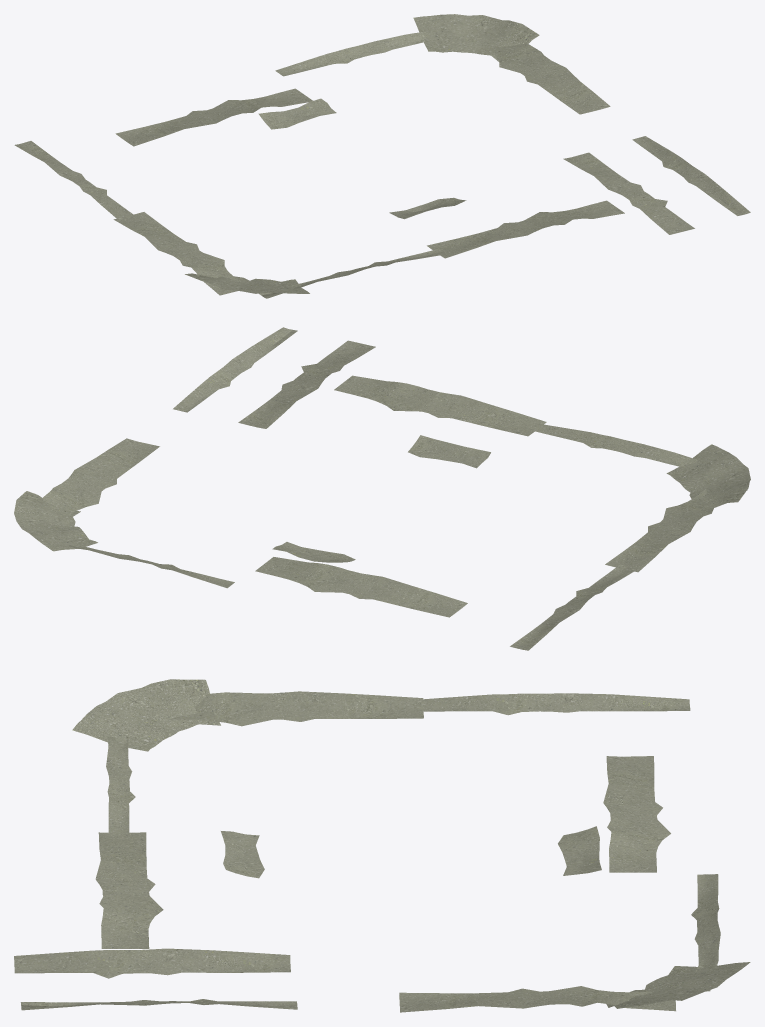
The model's file is SM_TheSamePlace_01_Rubbles_00.fbx.
3 renders of one model, top to bottom at view 1: azimuth 30°, elevation 25°; view 2: azimuth 150°, elevation 25°; view 3: azimuth 270°, elevation 25°, orthographic. The views are drawn at different scales.
Parts seen in each view (by area): view 1: SM_TheSamePlace_01_Rubbles_00; view 2: SM_TheSamePlace_01_Rubbles_00; view 3: SM_TheSamePlace_01_Rubbles_00.
Part boxes in pixels (box(x1,y1,x2,y2)): SM_TheSamePlace_01_Rubbles_00: box(14, 14, 750, 298); SM_TheSamePlace_01_Rubbles_00: box(14, 327, 750, 650); SM_TheSamePlace_01_Rubbles_00: box(14, 679, 750, 1012).
Bounding box in the file's own units: 4602 × 128 × 4355.
